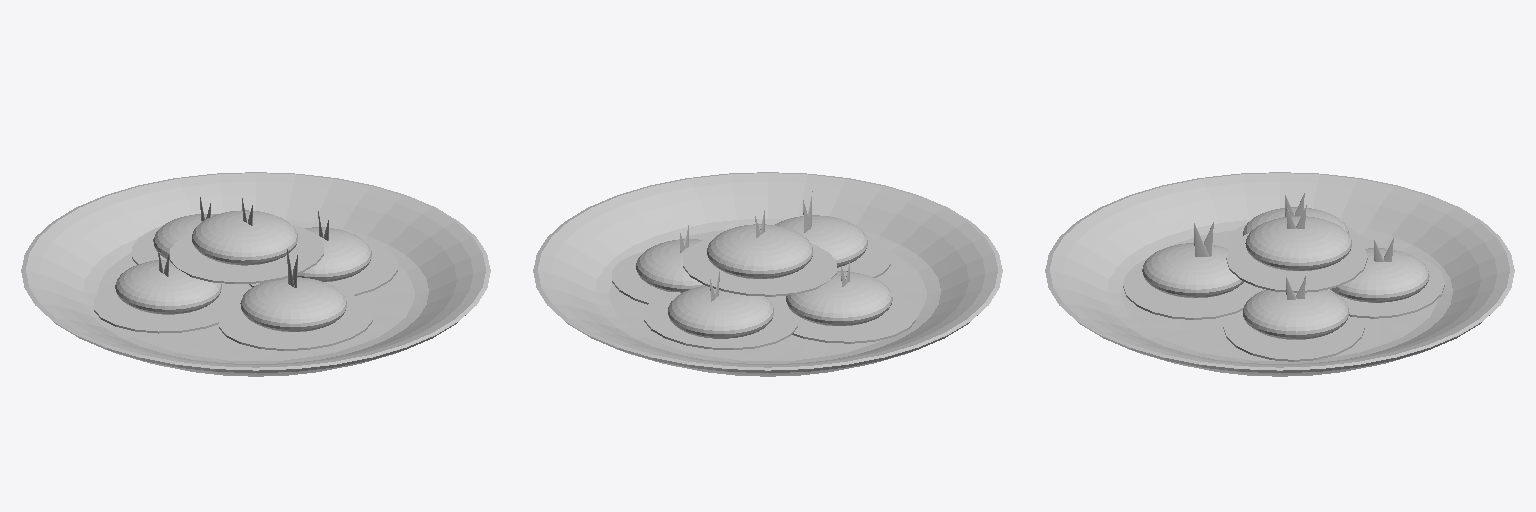
The model's file is kue kura kura.obj.
3 renders of one model, left to right at view 1: azimuth 30°, elevation 25°; view 2: azimuth 150°, elevation 25°; view 3: azimuth 270°, elevation 25°, orthographic.
Parts seen in each view (by area): view 1: Cylinder, Sphere.004, Sphere.003, Sphere.002, Cylinder.004, Cylinder.005, Cylinder.003, Sphere.001, Cylinder.002, Sphere, Cylinder.001; view 2: Cylinder, Sphere.004, Sphere, Sphere.002, Cylinder.005, Cylinder.001, Cylinder.003, Sphere.003, Sphere.001, Cylinder.002, Cylinder.004; view 3: Cylinder, Sphere.004, Sphere.001, Sphere.003, Cylinder.005, Cylinder.002, Cylinder.004, Sphere, Cylinder.001, Sphere.002.
Boxes of the visible parts, x1,y1,x2,y2 form: Cylinder: [21, 172, 490, 376]; Sphere.004: [192, 210, 297, 265]; Sphere.003: [240, 277, 346, 331]; Sphere.002: [115, 260, 221, 314]; Cylinder.004: [219, 291, 372, 350]; Cylinder.005: [170, 225, 323, 283]; Cylinder.003: [94, 281, 246, 333]; Sphere.001: [297, 227, 371, 281]; Cylinder.002: [249, 242, 397, 295]; Sphere: [153, 214, 216, 259]; Cylinder.001: [132, 226, 166, 264]; Cylinder: [533, 172, 1002, 376]; Sphere.004: [707, 224, 812, 278]; Sphere: [668, 286, 773, 338]; Sphere.002: [786, 271, 892, 325]; Cylinder.005: [683, 237, 836, 296]; Cylinder.001: [644, 292, 797, 349]; Cylinder.003: [774, 290, 915, 343]; Sphere.003: [775, 215, 867, 267]; Sphere.001: [636, 239, 704, 292]; Cylinder.002: [612, 252, 668, 304]; Cylinder.004: [837, 234, 890, 277]; Cylinder: [1045, 172, 1514, 376]; Sphere.004: [1245, 216, 1351, 270]; Sphere.001: [1243, 290, 1349, 339]; Sphere.003: [1142, 243, 1243, 297]; Cylinder.005: [1226, 233, 1367, 292]; Cylinder.002: [1223, 310, 1364, 361]; Cylinder.004: [1123, 259, 1263, 319]; Sphere: [1330, 248, 1429, 302]; Cylinder.001: [1328, 253, 1444, 318]; Sphere.002: [1243, 207, 1348, 235].
Size of the model in its own units: 2.31 by 0.5494 by 2.31.